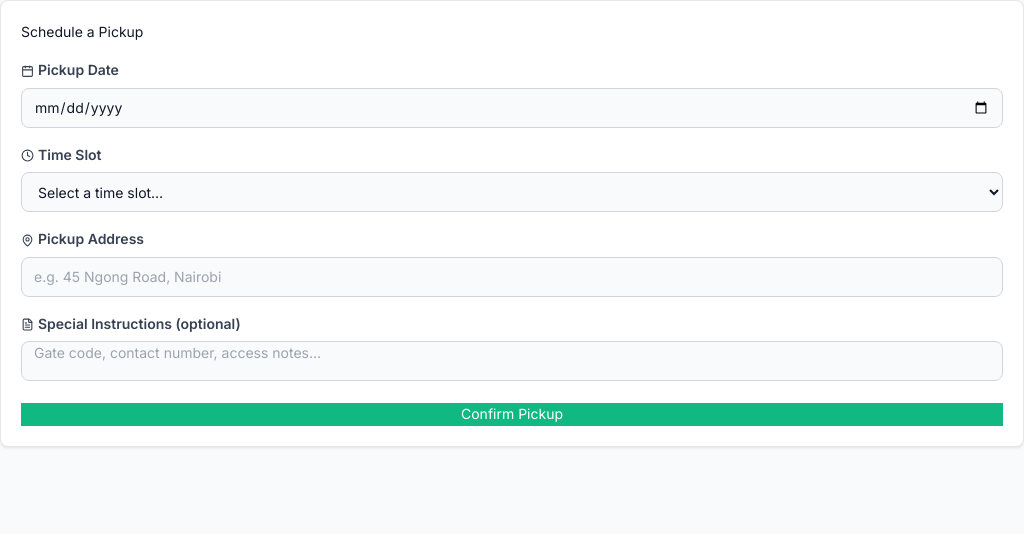
Test: PickupScheduler › shows validation errors on empty submit
The image size is (1024, 534).
Step 1. Click the button "Confirm Pickup" → (512, 414), box [21,403,1003,426]
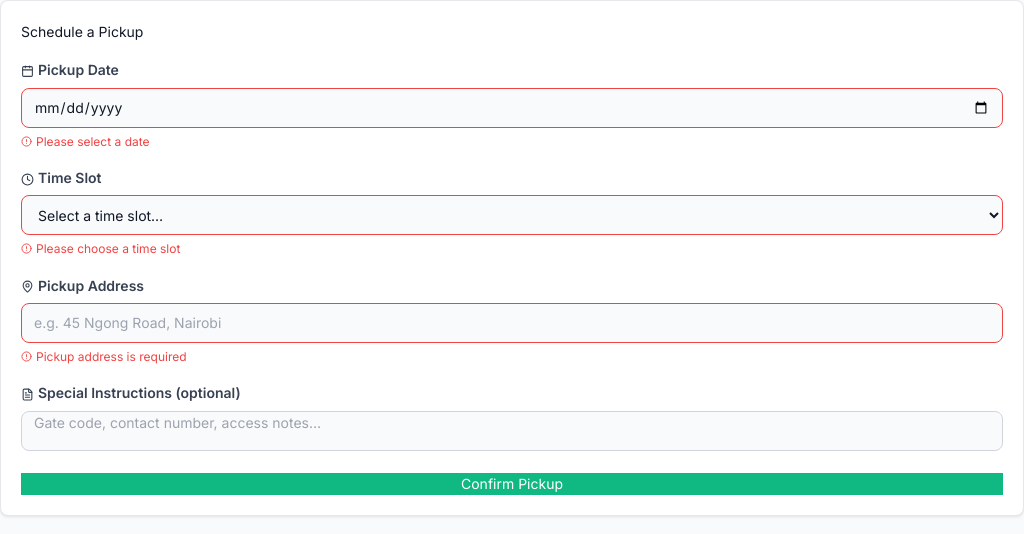
Expected: the text "Please select a date" is shown, [21,134,150,149]
Expected: the text "Please choose a time slot" is shown, [21,241,180,256]
Expected: the text "Pickup address is required" is shown, [21,349,187,364]
